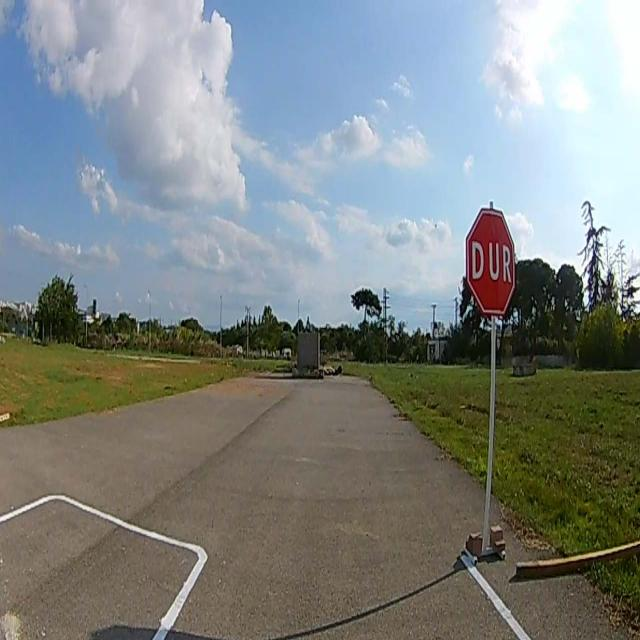dur: (466, 209, 514, 312)
